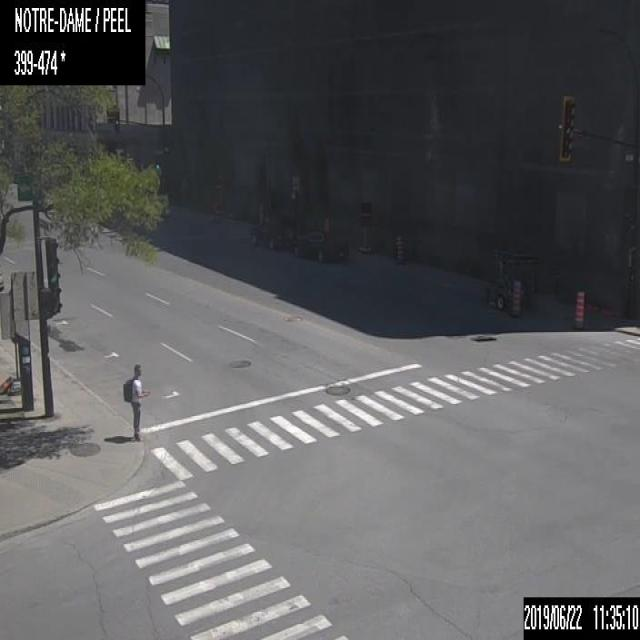construction: (492, 247, 538, 310), (358, 200, 373, 254), (570, 286, 585, 331), (507, 276, 522, 319), (393, 231, 402, 264)
pedestrian: (122, 363, 154, 440)
vehicle: (293, 230, 348, 264), (250, 222, 292, 250)
